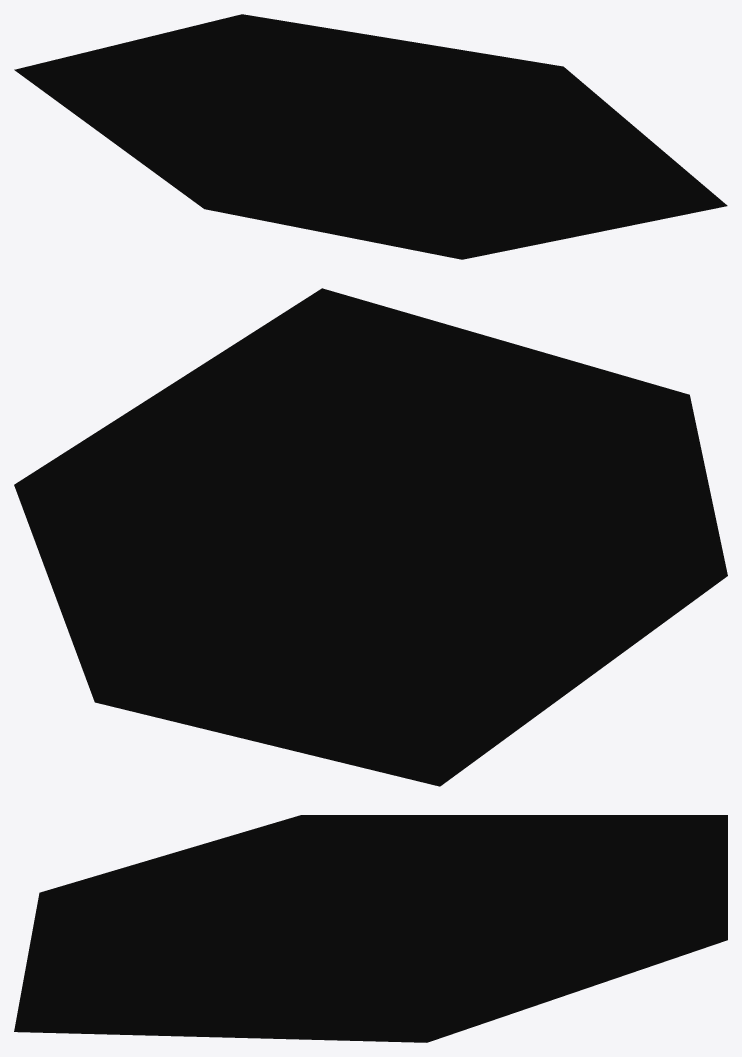
3 views of the same model, one above another, from view 1: azimuth 30°, elevation 25°; view 2: azimuth 150°, elevation 25°; view 3: azimuth 270°, elevation 25° (orthographic). The views are drawn at different scales.
Parts seen in each view (by area): view 1: Joint_0_Object_0; view 2: Joint_0_Object_0; view 3: Joint_0_Object_0.
Boxes of the visible parts, x1,y1,x2,y2 form: Joint_0_Object_0: [14, 14, 727, 259]; Joint_0_Object_0: [14, 288, 727, 786]; Joint_0_Object_0: [14, 815, 727, 1042].
Size of the model in its own units: 420 by 0 by 556.
1 material, 1 textured.
